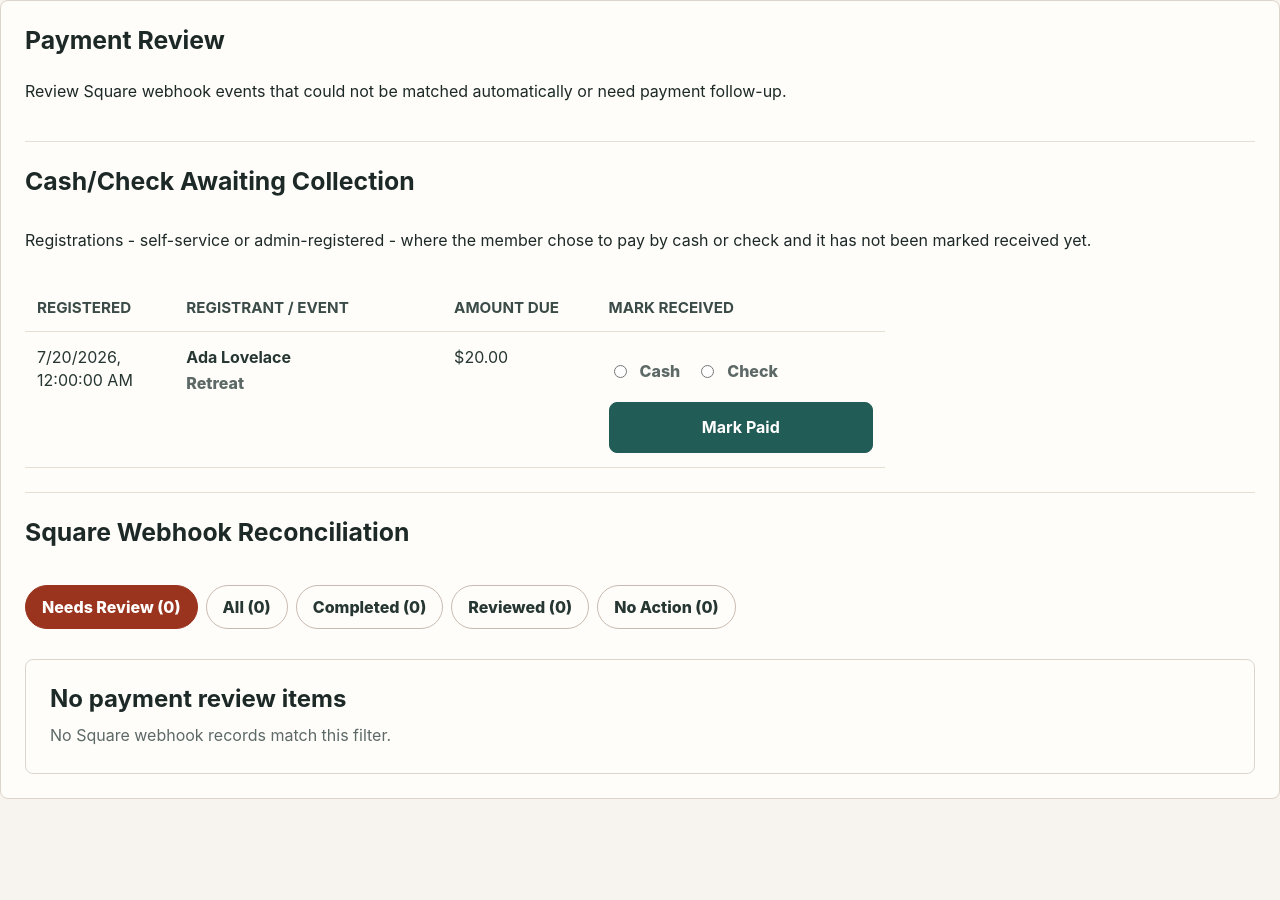
Scenario: cash/check awaiting collection › requires confirmation before actually marking the payment received
Click the radio button labelled "Check" at (708, 372), box [701,365,714,378]
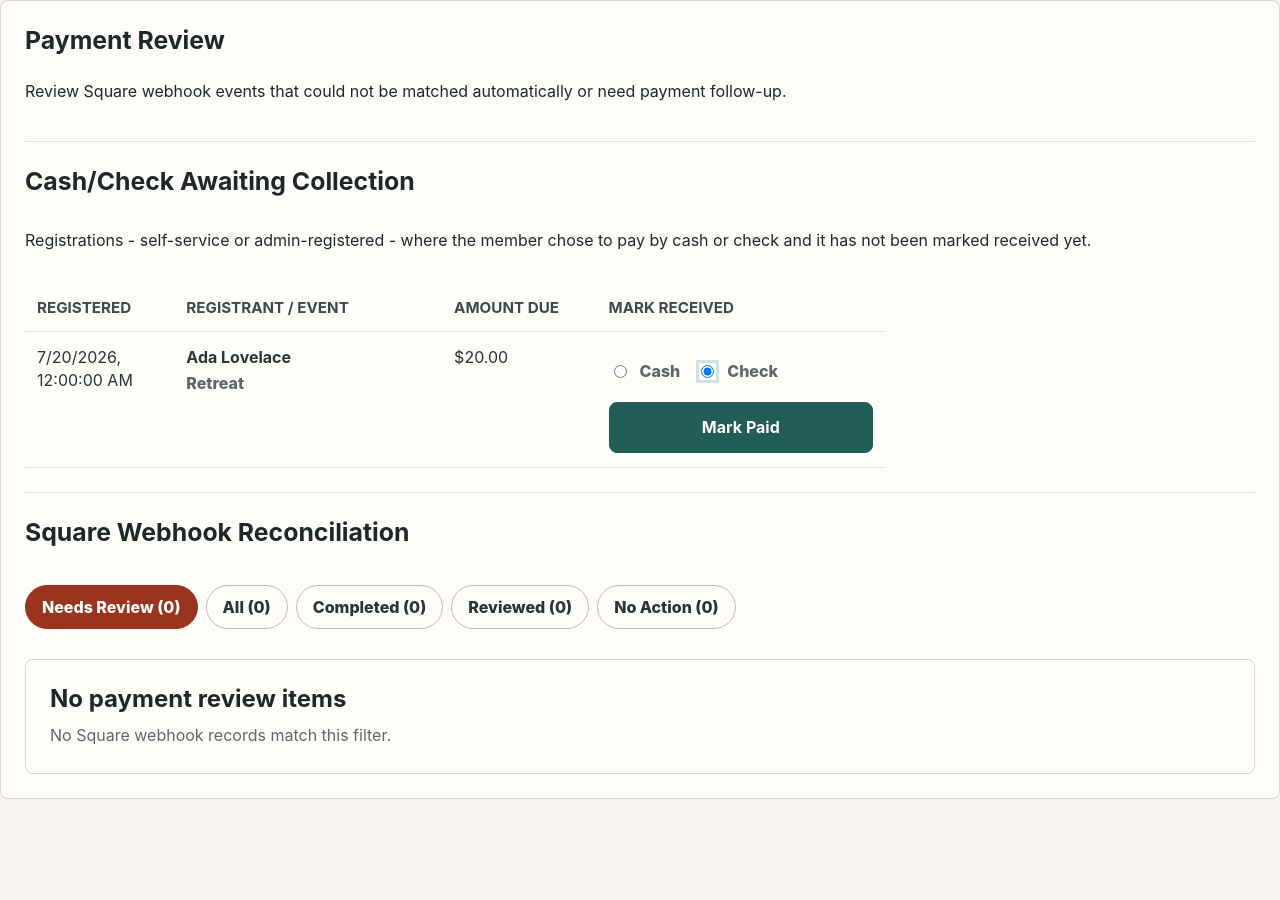
Click the button "Mark Paid" at (741, 428), box [609,402,873,453]
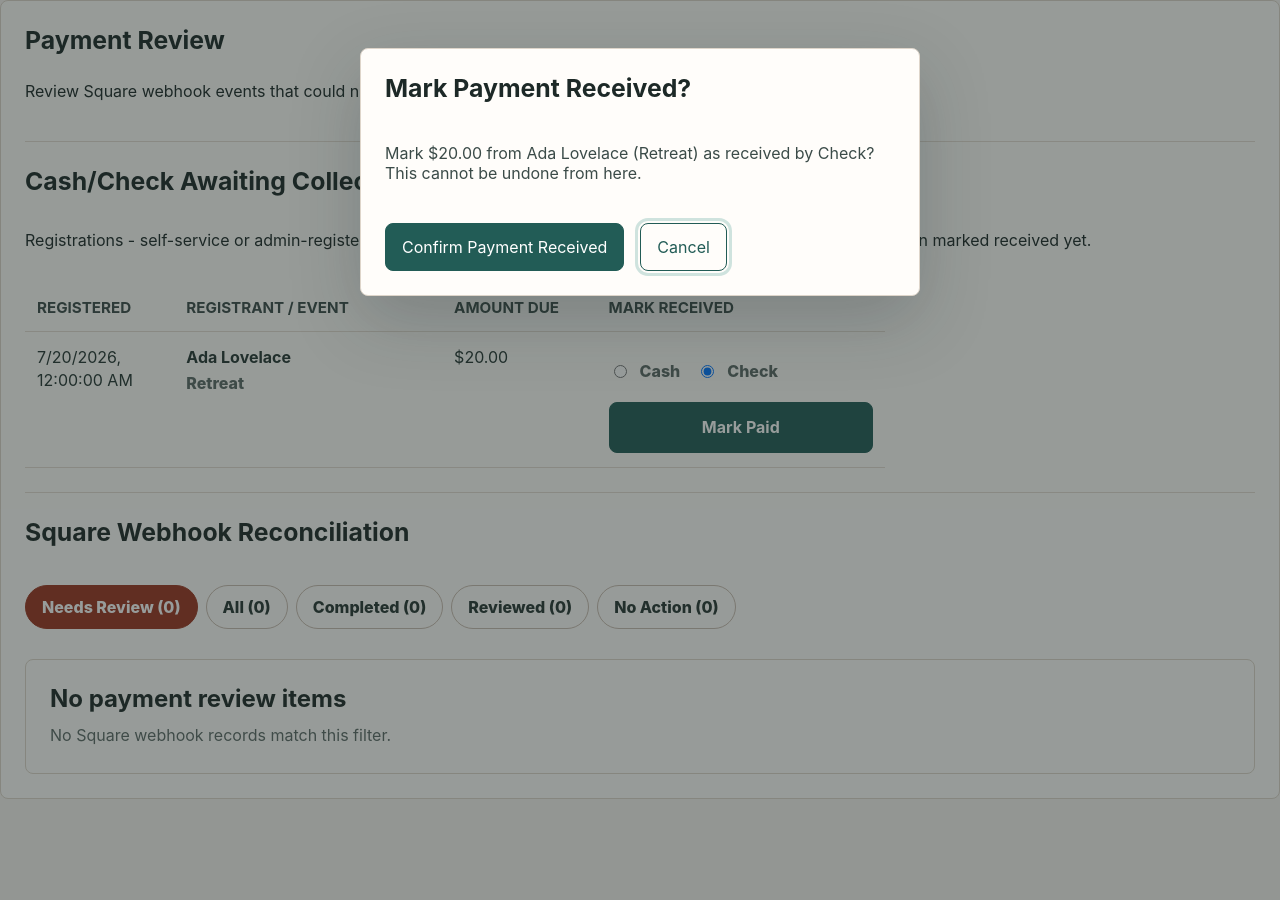
Expected: the heading "Mark Payment Received?" is shown, [385,73,691,103]
Expected: the text "Mark $20.00 from Ada Lovelace" is shown, [385,143,874,183]
